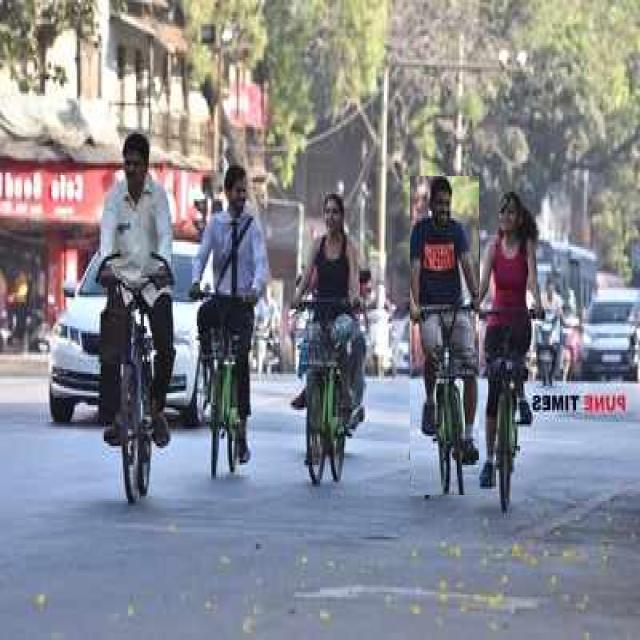bicycle: (98, 133, 174, 501), (190, 165, 269, 477), (470, 193, 541, 514), (410, 176, 479, 495), (295, 193, 365, 482)
